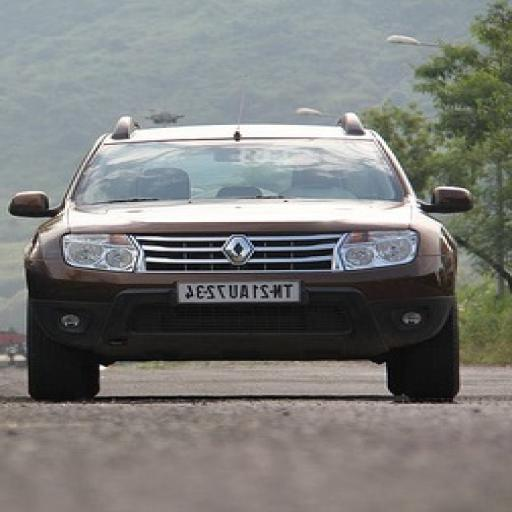License: (177, 278, 305, 304)
